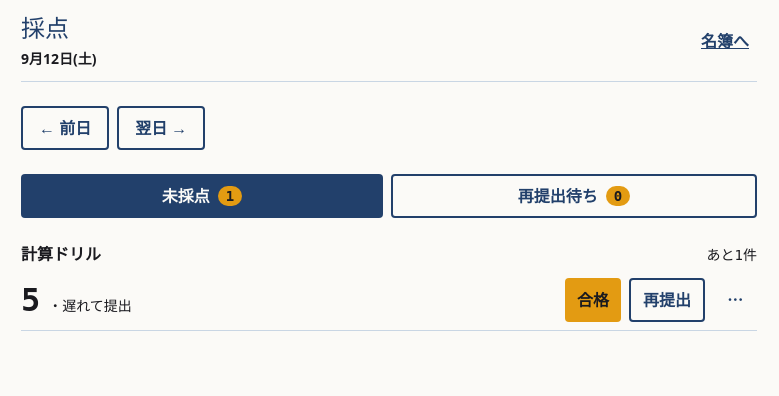
it: 採点画面 › タブを切り替えて戻すとメニューは閉じている
This screenshot has width=779, height=396.
Click the button named "8月24日(月)の5番（計算ドリル）のその他の操作" at (735, 300), box x1=713 y1=278 x2=757 y2=322
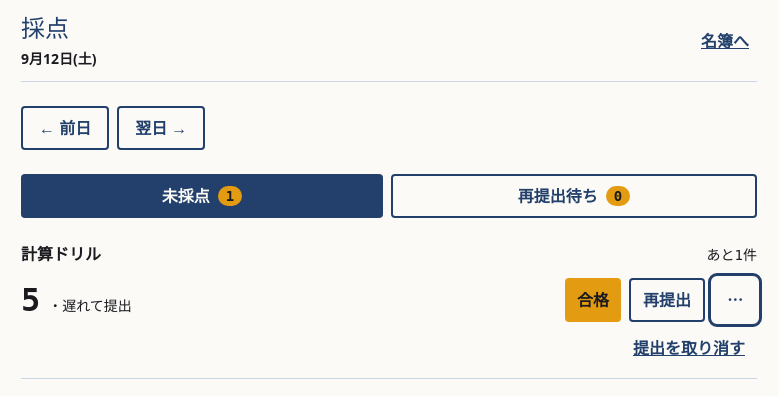
Now the button with aria-label "8月24日(月)の5番（計算ドリル）の提出を取り消す" is shown, box x1=621 y1=326 x2=757 y2=370
Click the tab "再提出待ち 0" at (574, 196), box x1=391 y1=174 x2=757 y2=218
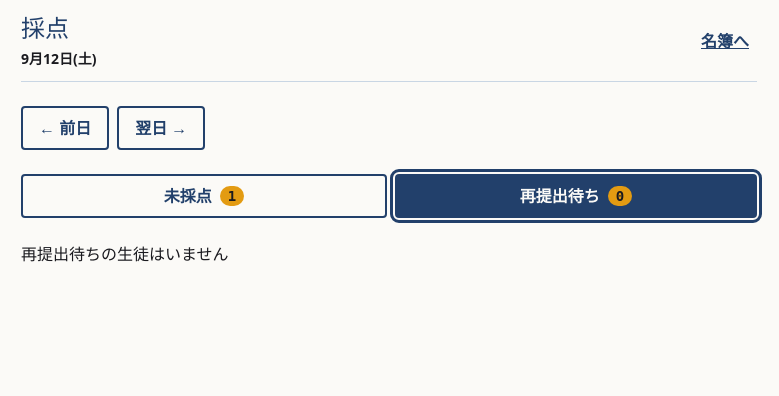
Click the tab "未採点 1" at (204, 196), box x1=21 y1=174 x2=387 y2=218
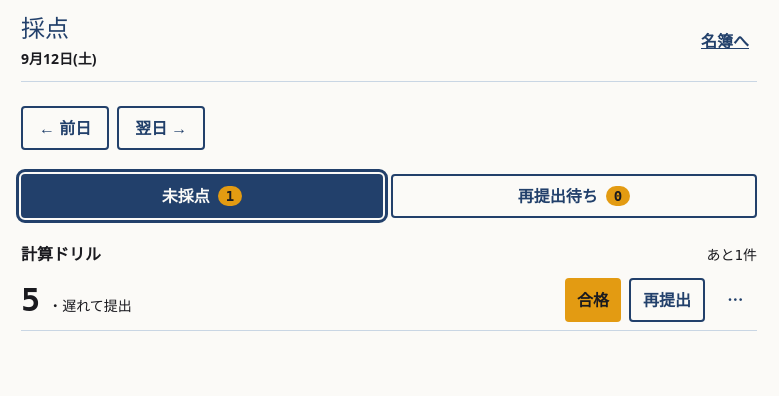
Now the button named "8月24日(月)の5番（計算ドリル）のその他の操作" is shown, box x1=713 y1=278 x2=757 y2=322
